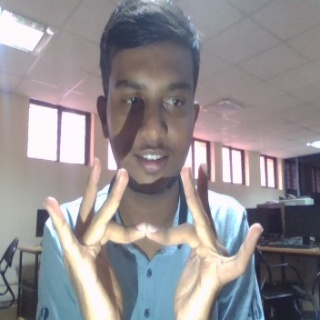Internet: (39, 155, 264, 320)
